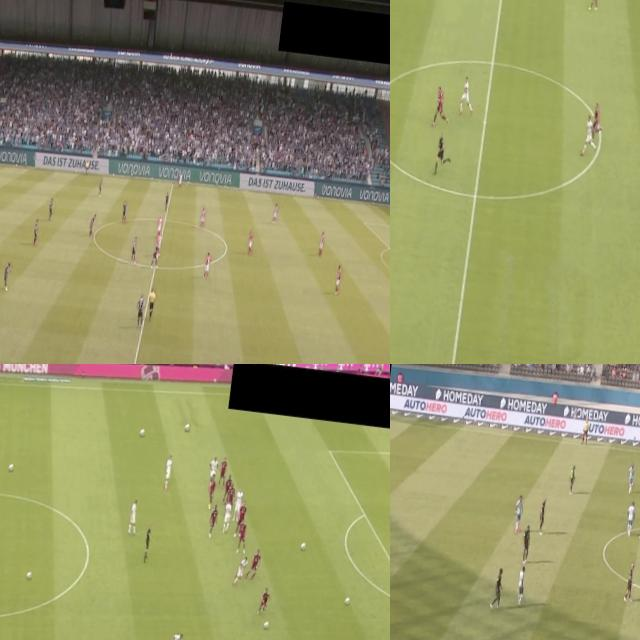ball: (7, 461, 15, 475), (299, 538, 305, 553), (183, 421, 190, 432), (138, 427, 146, 436), (26, 570, 32, 580), (345, 596, 350, 603), (264, 620, 269, 626), (156, 254, 158, 258)
player: (432, 84, 451, 129), (581, 115, 600, 158), (459, 72, 476, 116), (490, 566, 504, 608), (590, 99, 604, 140), (624, 558, 636, 604), (520, 523, 534, 562), (516, 564, 528, 609), (126, 499, 140, 536), (512, 492, 524, 535), (232, 554, 248, 586), (624, 498, 636, 538), (247, 548, 261, 582), (536, 496, 548, 533), (134, 294, 146, 328), (208, 504, 219, 540), (566, 461, 578, 494), (256, 586, 269, 615), (163, 454, 173, 490), (216, 456, 228, 486), (236, 501, 246, 536), (237, 519, 248, 550), (222, 474, 234, 502), (222, 501, 232, 534), (332, 264, 342, 296), (202, 248, 212, 280), (1, 260, 11, 292), (233, 488, 243, 520), (626, 462, 636, 494), (130, 233, 140, 264), (207, 476, 216, 508), (209, 457, 219, 484), (316, 228, 326, 252), (150, 243, 160, 266), (32, 217, 40, 244), (120, 198, 128, 222), (246, 230, 254, 254), (88, 212, 96, 235), (166, 631, 185, 640), (589, 0, 604, 11), (48, 196, 55, 218), (163, 192, 170, 212), (200, 207, 207, 226), (272, 202, 278, 224), (156, 214, 162, 234), (156, 231, 162, 251), (98, 176, 104, 196), (637, 501, 640, 541), (178, 170, 184, 187)
